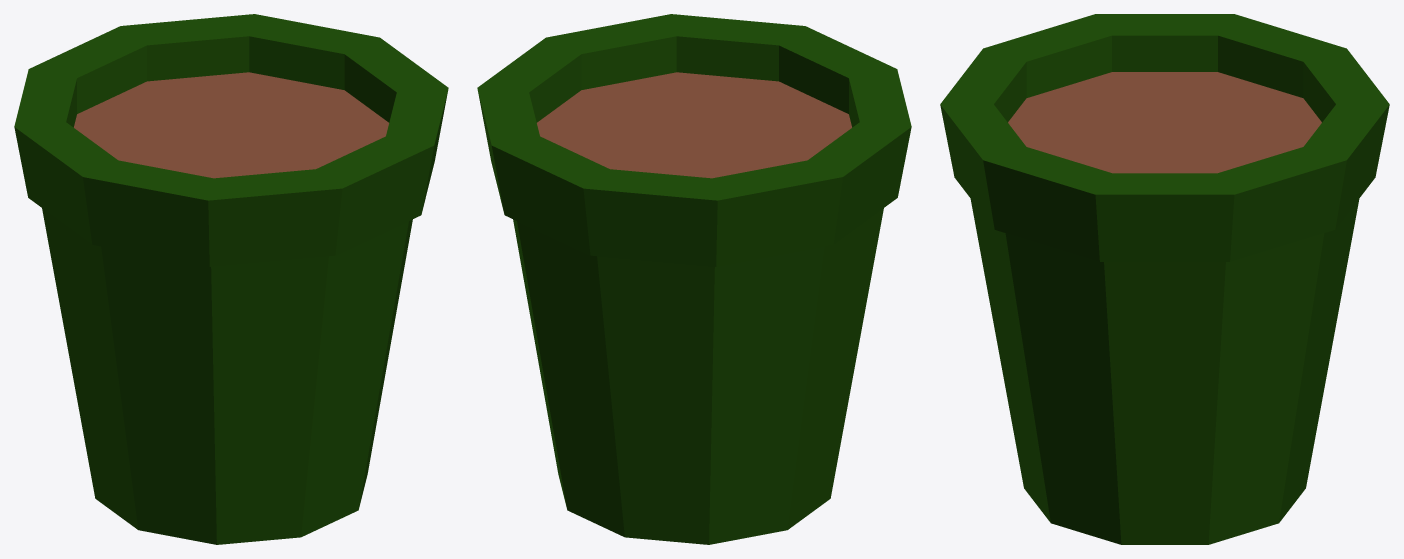
The model's file is Pot_3_mat.fbx.
The picture shows the model from 3 angles, left to right: view 1: azimuth 30°, elevation 25°; view 2: azimuth 150°, elevation 25°; view 3: azimuth 270°, elevation 25°; orthographic projection.
Visible parts, largest first — view 1: Pot_3_mat; view 2: Pot_3_mat; view 3: Pot_3_mat.
Part boxes in pixels (x1=…): Pot_3_mat: x1=14, y1=14, x2=448, y2=544; Pot_3_mat: x1=477, y1=14, x2=911, y2=544; Pot_3_mat: x1=940, y1=14, x2=1389, y2=544.
Size of the model in its own units: 1.21 by 1.2 by 1.28.
